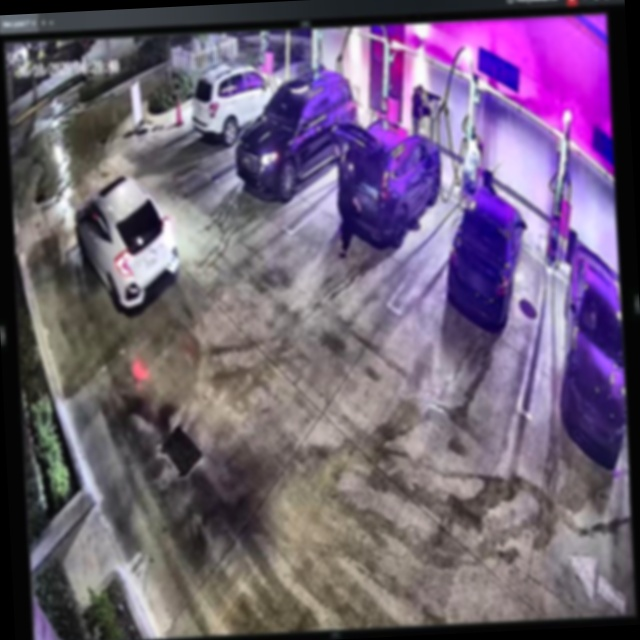Car: (231, 73, 360, 210), (334, 112, 443, 247), (78, 180, 182, 311), (443, 185, 531, 335), (189, 62, 293, 147)
